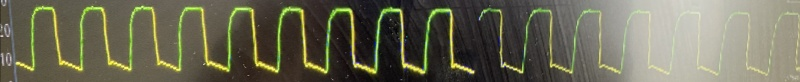normal_pressure: (5, 0, 789, 82)
